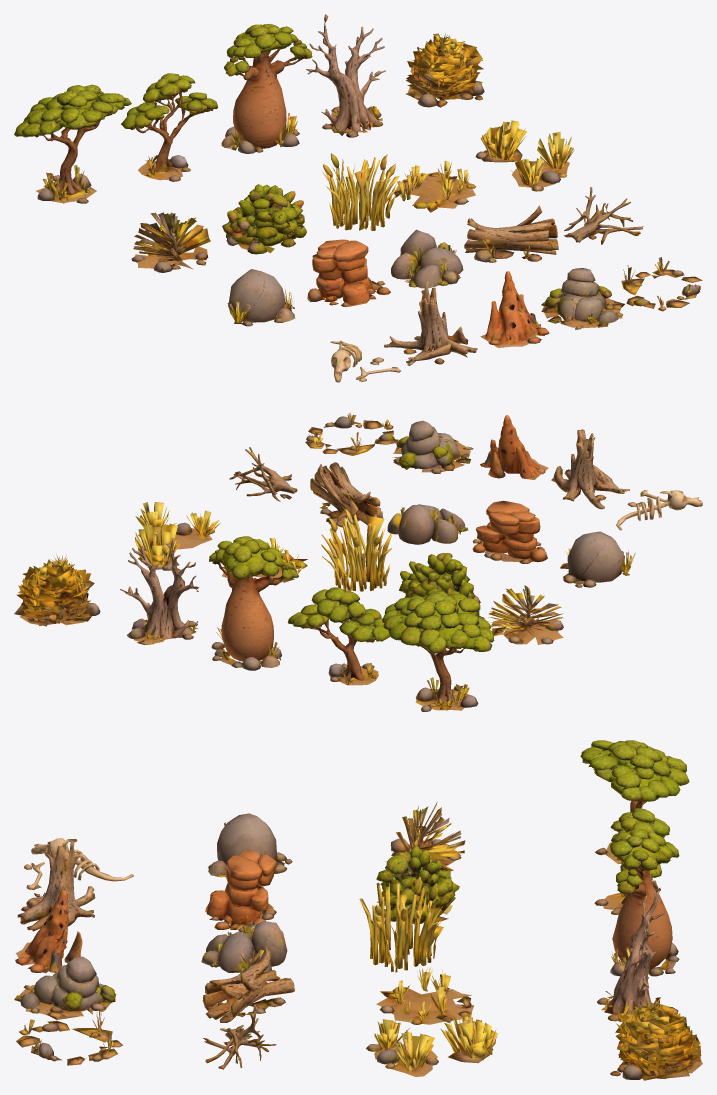
File: sabana-original-hd.glb
3 views of the same model, one above another, from view 1: azimuth 30°, elevation 25°; view 2: azimuth 150°, elevation 25°; view 3: azimuth 270°, elevation 25° (orthographic). The views are drawn at different scales.
Visible parts, largest first — view 1: Mesh_0.001; view 2: Mesh_0.001; view 3: Mesh_0.001.
Part boxes in pixels (x1,y1,x2,y2): Mesh_0.001: [14, 14, 702, 382]; Mesh_0.001: [14, 412, 702, 711]; Mesh_0.001: [14, 740, 702, 1080].
Size of the model in its own units: 0.852 by 0.2017 by 0.9536.
Materials: 2 (2 with a texture image).
